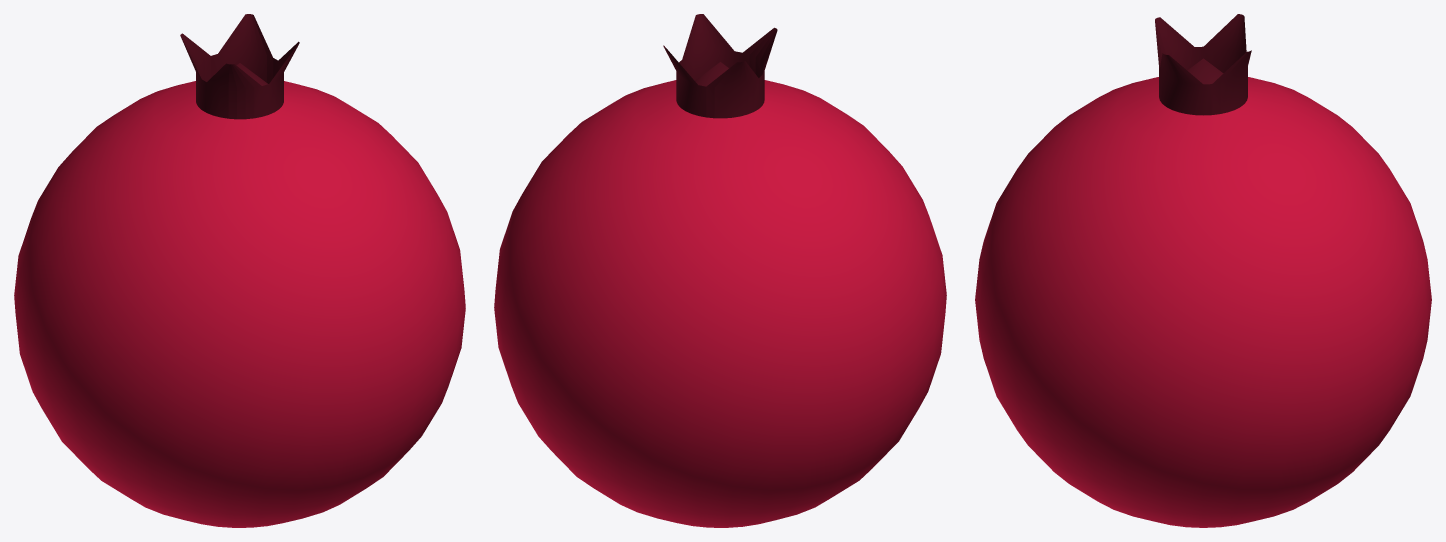
File: Fruit_Pomegranate.fbx
The picture shows the model from 3 angles, left to right: view 1: azimuth 30°, elevation 25°; view 2: azimuth 150°, elevation 25°; view 3: azimuth 270°, elevation 25°; orthographic projection.
Visible parts, largest first — view 1: Pomegranate; view 2: Pomegranate; view 3: Pomegranate.
Part boxes in pixels (box(x1,y1,x2,y2)): Pomegranate: box(14, 14, 465, 527); Pomegranate: box(494, 14, 946, 527); Pomegranate: box(975, 14, 1431, 527).
Size of the model in its own units: 200 by 228 by 200.
